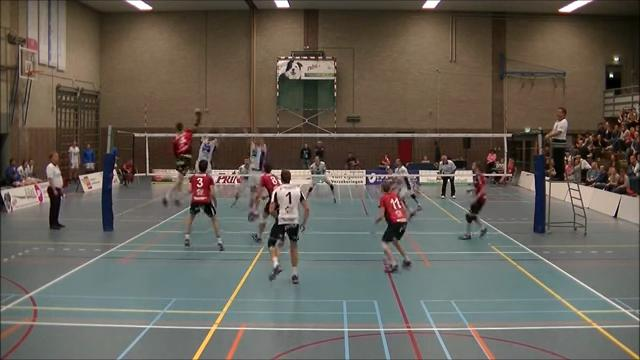attacco: (161, 107, 199, 207)
muro: (233, 120, 266, 224), (191, 115, 223, 178)
